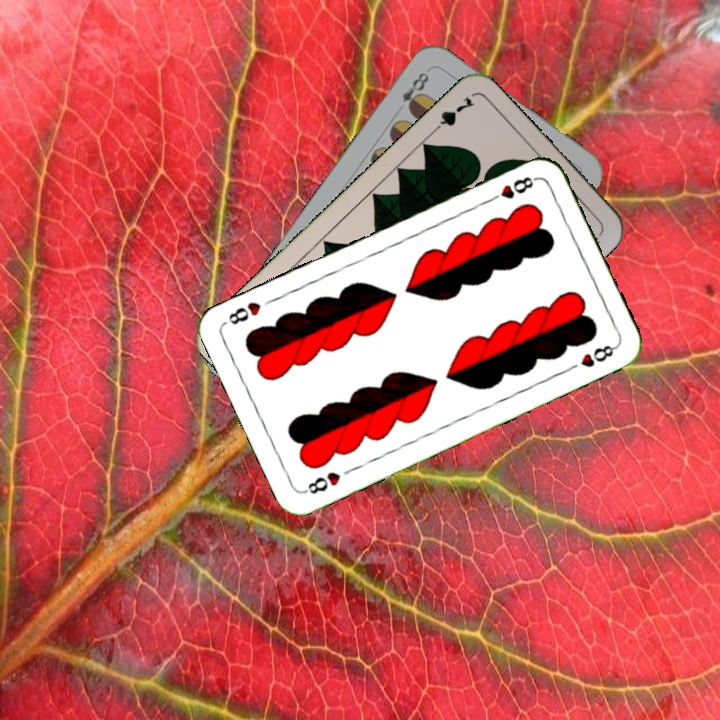E8: (397, 66, 432, 115)
G7: (427, 92, 478, 137)
H8: (484, 172, 540, 205), (300, 467, 344, 497)
